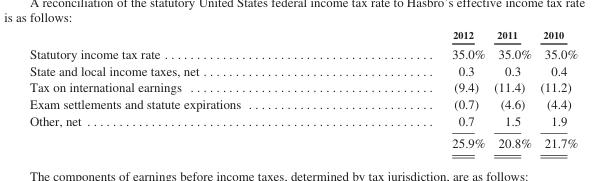table: (28, 28, 577, 149)
table column: (28, 28, 345, 149), (345, 28, 488, 149), (488, 28, 535, 149), (535, 28, 577, 149)
table column header: (28, 28, 577, 43)
table row: (28, 112, 577, 131), (28, 43, 577, 61), (28, 131, 577, 149), (28, 61, 577, 78), (28, 78, 577, 95), (28, 95, 577, 112), (28, 28, 577, 43)
